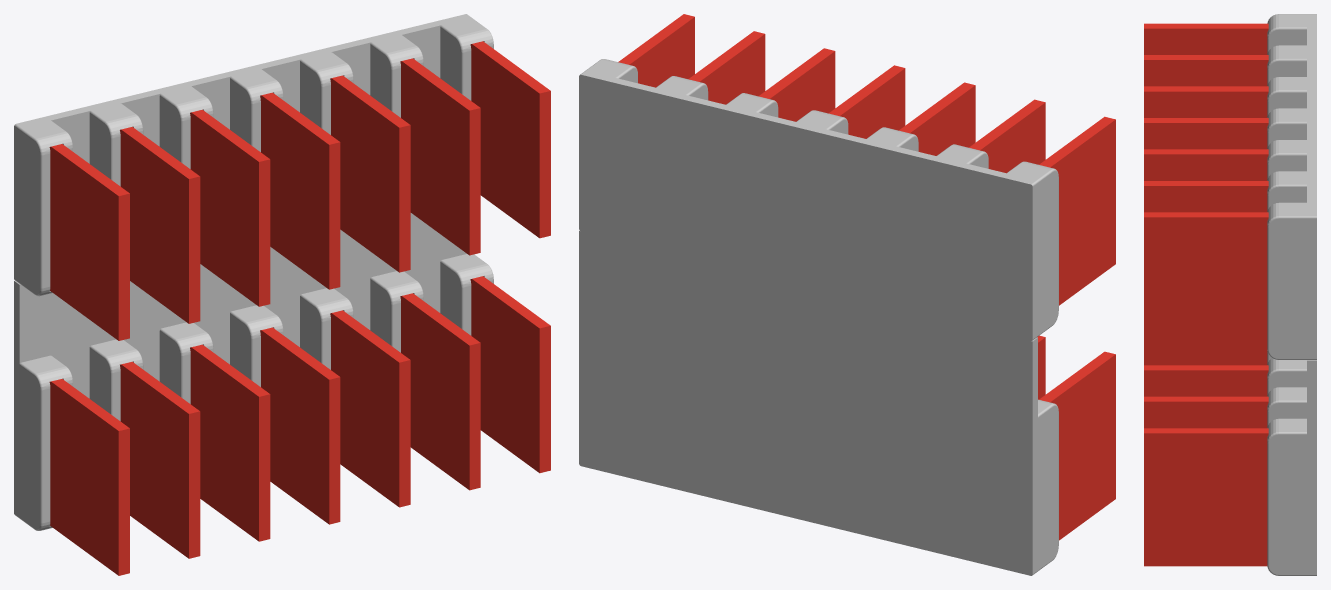
The model's file is jimu_liaoban_loaded_14plates.glb.
The picture shows the model from 3 angles, left to right: view 1: azimuth 30°, elevation 25°; view 2: azimuth 150°, elevation 25°; view 3: azimuth 270°, elevation 25°; orthographic projection. The views are drawn at different scales.
Parts seen in each view (by area): view 1: tray_00, slot_07_plate_00, slot_00_plate_00, slot_02_plate_00, slot_08_plate_00, slot_01_plate_00, slot_09_plate_00, slot_10_plate_00, slot_03_plate_00, slot_04_plate_00, slot_05_plate_00, slot_11_plate_00 (+3 smaller); view 2: tray_00, slot_00_plate_00, slot_07_plate_00, slot_12_plate_00, slot_11_plate_00, slot_10_plate_00, slot_09_plate_00, slot_08_plate_00, slot_13_plate_00; view 3: tray_00, slot_13_plate_00, slot_06_plate_00, slot_05_plate_00, slot_07_plate_00, slot_04_plate_00, slot_09_plate_00, slot_11_plate_00, slot_08_plate_00, slot_10_plate_00, slot_12_plate_00, slot_03_plate_00.
Part boxes in pixels (bbox=[...]): tray_00: bbox=[14, 14, 493, 530]; slot_07_plate_00: bbox=[49, 144, 129, 340]; slot_00_plate_00: bbox=[49, 379, 129, 575]; slot_02_plate_00: bbox=[190, 344, 270, 541]; slot_08_plate_00: bbox=[120, 127, 200, 323]; slot_01_plate_00: bbox=[120, 361, 200, 558]; slot_09_plate_00: bbox=[190, 109, 270, 306]; slot_10_plate_00: bbox=[260, 92, 340, 289]; slot_03_plate_00: bbox=[260, 327, 340, 524]; slot_04_plate_00: bbox=[330, 310, 410, 507]; slot_05_plate_00: bbox=[400, 293, 480, 490]; slot_11_plate_00: bbox=[330, 75, 410, 272]; tray_00: bbox=[579, 59, 1058, 575]; slot_00_plate_00: bbox=[1039, 351, 1115, 540]; slot_07_plate_00: bbox=[1039, 116, 1115, 305]; slot_12_plate_00: bbox=[688, 31, 765, 104]; slot_11_plate_00: bbox=[758, 48, 835, 121]; slot_10_plate_00: bbox=[828, 65, 905, 138]; slot_09_plate_00: bbox=[899, 82, 975, 155]; slot_08_plate_00: bbox=[969, 99, 1045, 173]; slot_13_plate_00: bbox=[618, 14, 694, 87]; tray_00: bbox=[1267, 14, 1316, 575]; slot_13_plate_00: bbox=[1144, 212, 1268, 350]; slot_06_plate_00: bbox=[1144, 428, 1268, 566]; slot_05_plate_00: bbox=[1144, 396, 1268, 428]; slot_07_plate_00: bbox=[1144, 23, 1268, 54]; slot_04_plate_00: bbox=[1144, 365, 1268, 396]; slot_09_plate_00: bbox=[1144, 86, 1268, 117]; slot_11_plate_00: bbox=[1144, 149, 1268, 180]; slot_08_plate_00: bbox=[1144, 55, 1268, 86]; slot_10_plate_00: bbox=[1144, 118, 1268, 149]; slot_12_plate_00: bbox=[1144, 181, 1268, 212]; slot_03_plate_00: bbox=[1144, 350, 1267, 365].
Size of the model in its own units: 0.2425 by 0.2 by 0.087.
